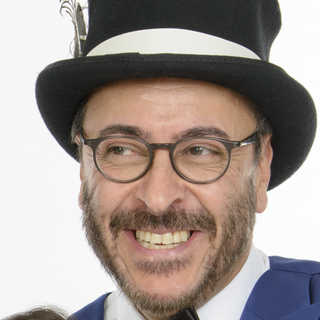eye: (99, 140, 147, 163), (177, 142, 222, 161)
